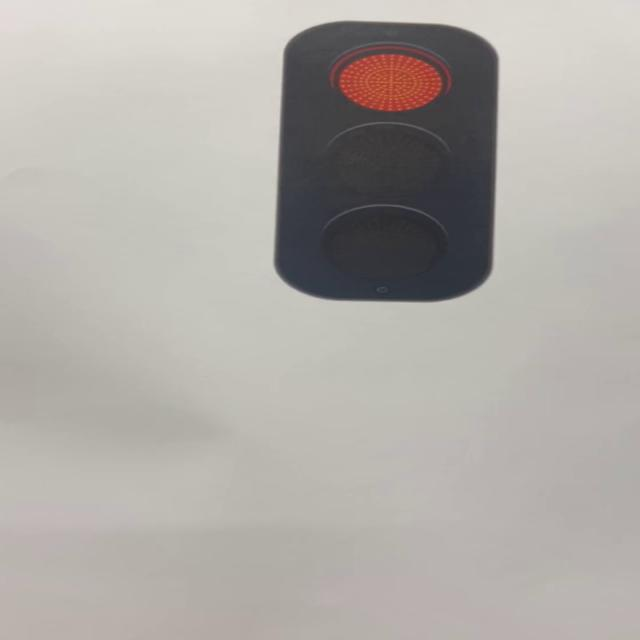red: (280, 23, 500, 305)
